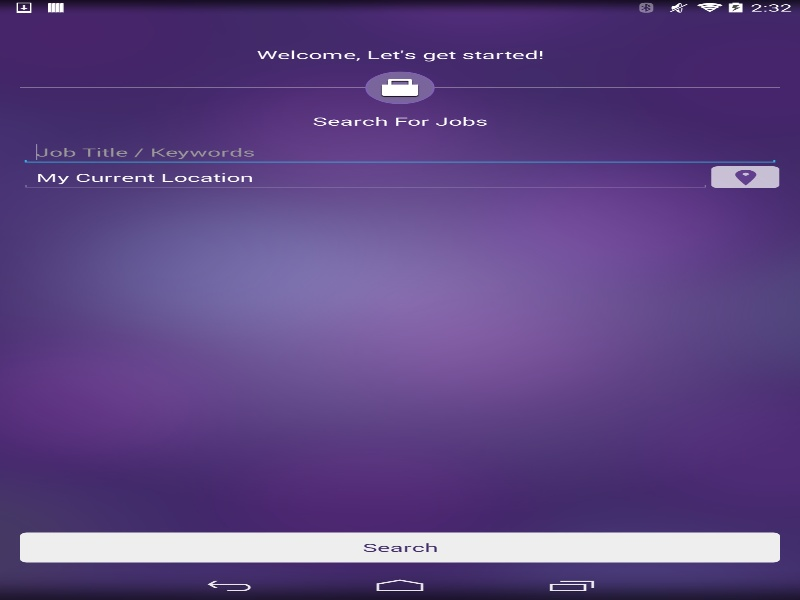Button: (20, 532, 780, 562)
Input: (20, 164, 711, 190), (20, 141, 780, 164)
